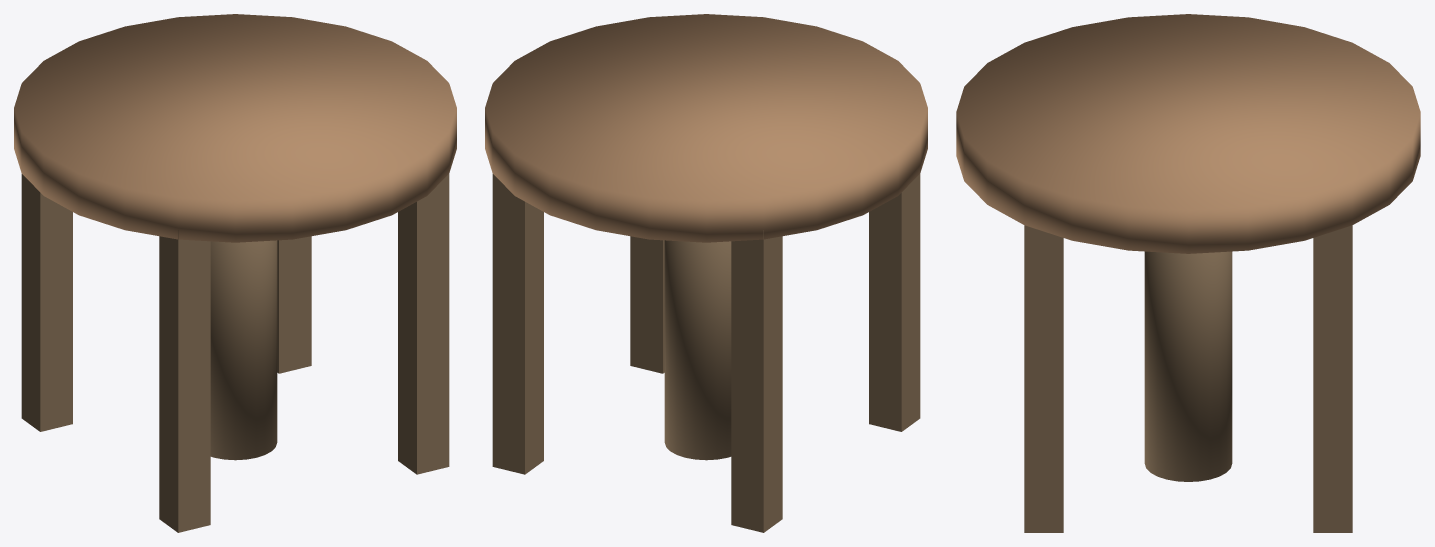
The model's file is garden.table-old.glb.
3 renders of one model, left to right at view 1: azimuth 30°, elevation 25°; view 2: azimuth 150°, elevation 25°; view 3: azimuth 270°, elevation 25°, orthographic. The views are drawn at different scales.
Parts seen in each view (by area): view 1: table stand; view 2: table stand; view 3: table stand.
Part boxes in pixels (left/top/right/bottom): table stand: left=14, top=14, right=456, bottom=532; table stand: left=485, top=14, right=927, bottom=532; table stand: left=956, top=14, right=1420, bottom=532.
Bounding box in the file's own units: 1.06 × 0.885 × 1.06.
